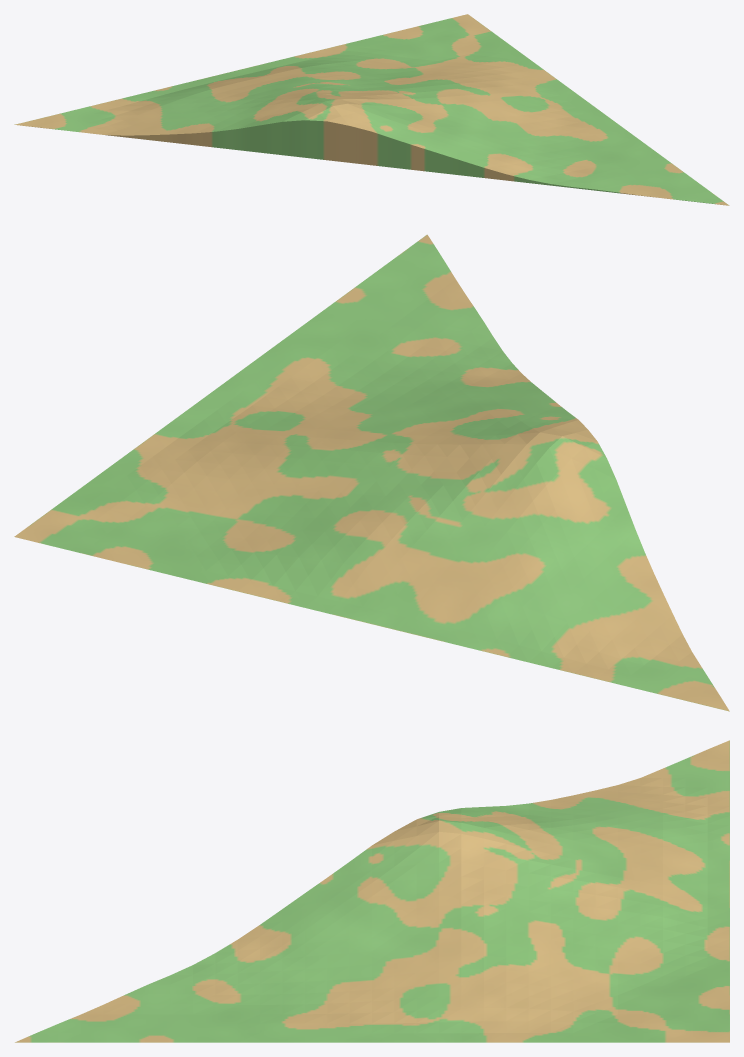
Rendered from Grass_Hills_04_SE.obj.
3 views of the same model, one above another, from view 1: azimuth 30°, elevation 25°; view 2: azimuth 150°, elevation 25°; view 3: azimuth 270°, elevation 25° (orthographic). The views are drawn at different scales.
Bounding box in the file's own units: 10 × 0.9425 × 10.
1 material, 1 textured.
